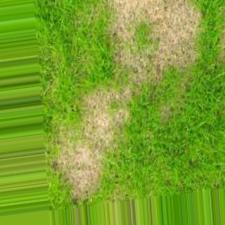patch: (126, 5, 198, 32), (64, 113, 108, 155), (66, 163, 110, 197), (121, 44, 186, 65), (93, 83, 143, 109)
